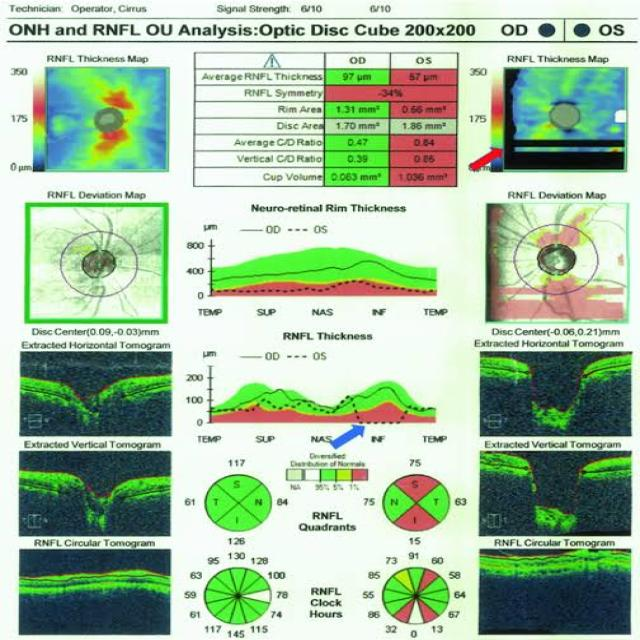rim area: (204, 100, 455, 118)
rim area-od: (330, 101, 385, 118)
rim area-os: (398, 100, 452, 116)
vertical cd ratio: (204, 151, 450, 167)
vertical cd ratio-od: (332, 151, 386, 167)
vertical cd ratio-os: (399, 151, 449, 166)
